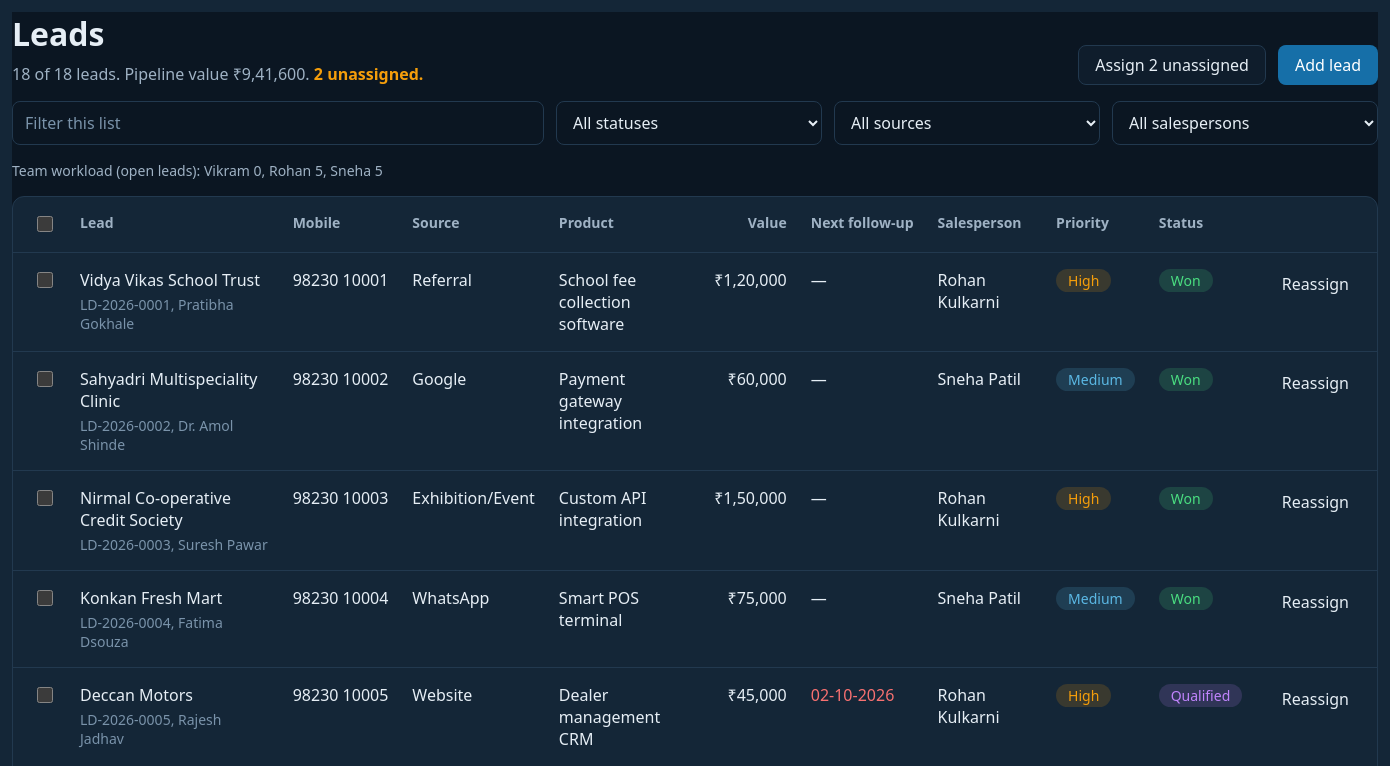
Test: LeadsPanel › adds a new lead to the list
Click the button "Add lead": (1328, 65) top-left (1278, 45), bottom-right (1378, 85)
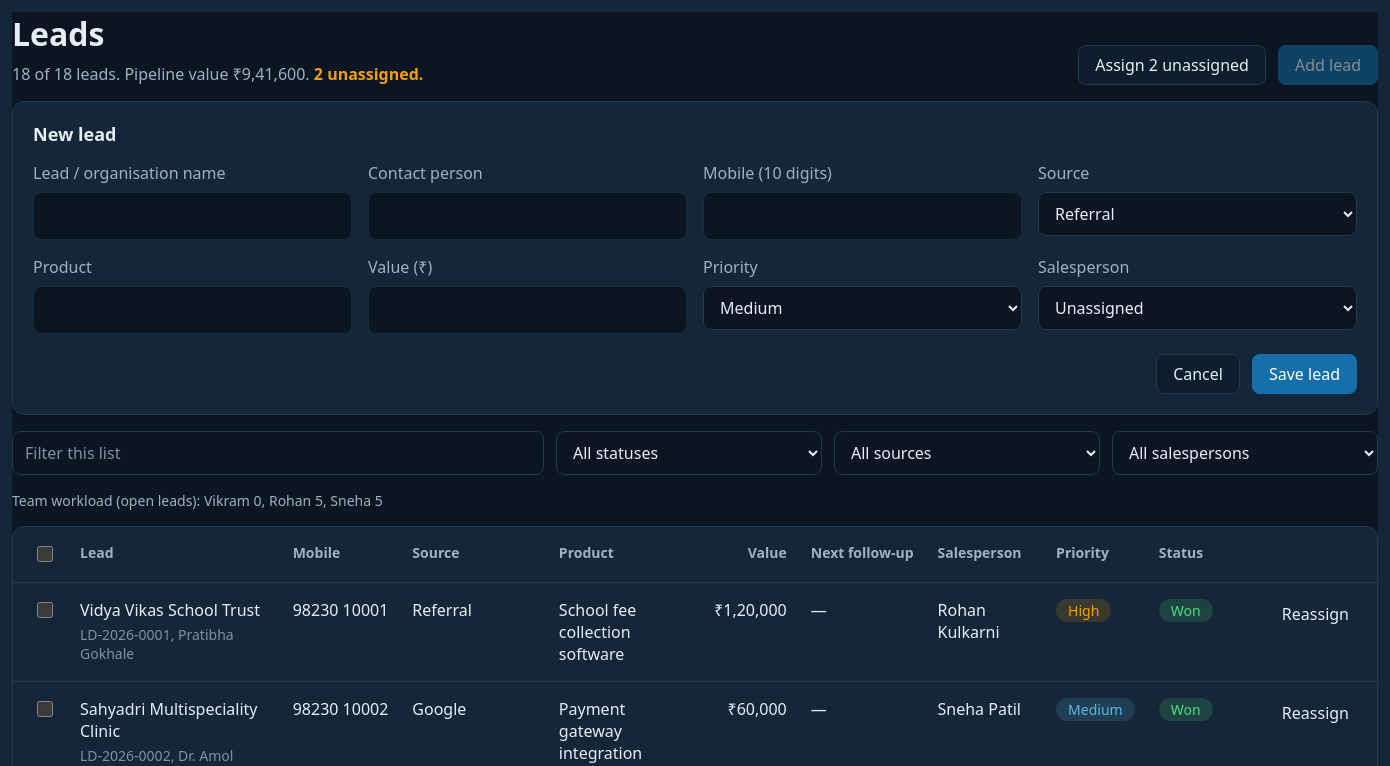
In the field labelled "Lead / organisation name": (192, 216) top-left (33, 192), bottom-right (352, 240), type "Acme Traders"
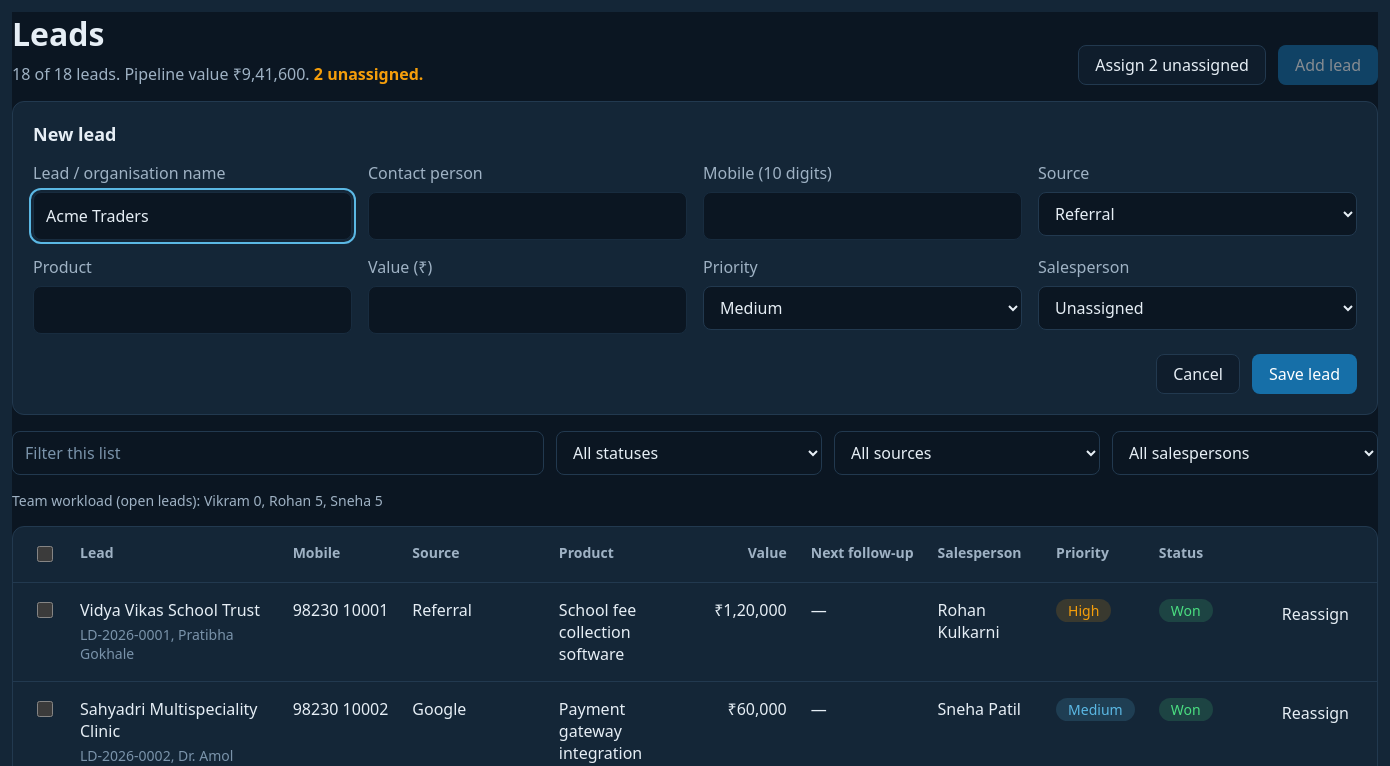
In the field labelled "Contact person": (528, 216) top-left (368, 192), bottom-right (687, 240), type "Ravi Kumar"
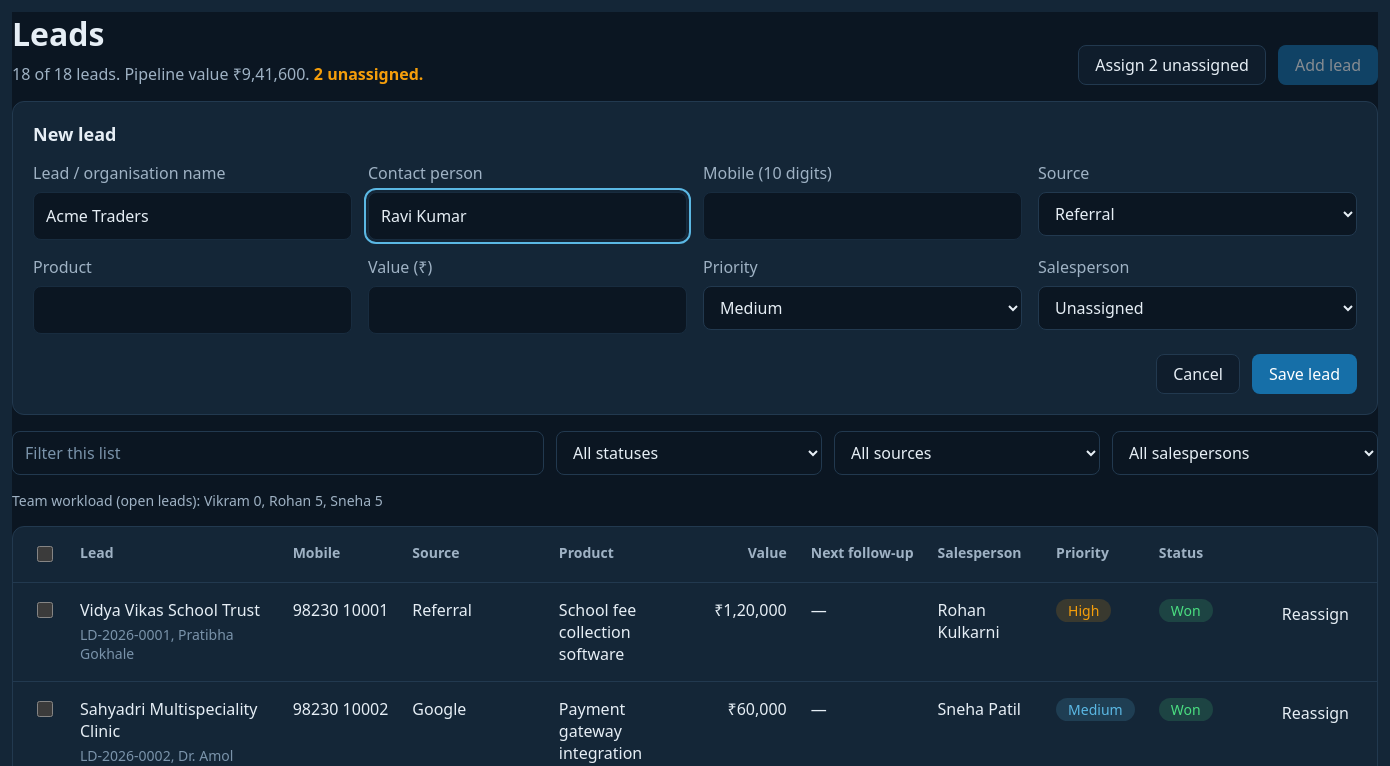
In the field labelled "Mobile (10 digits)": (862, 216) top-left (703, 192), bottom-right (1022, 240), type "9876543210"
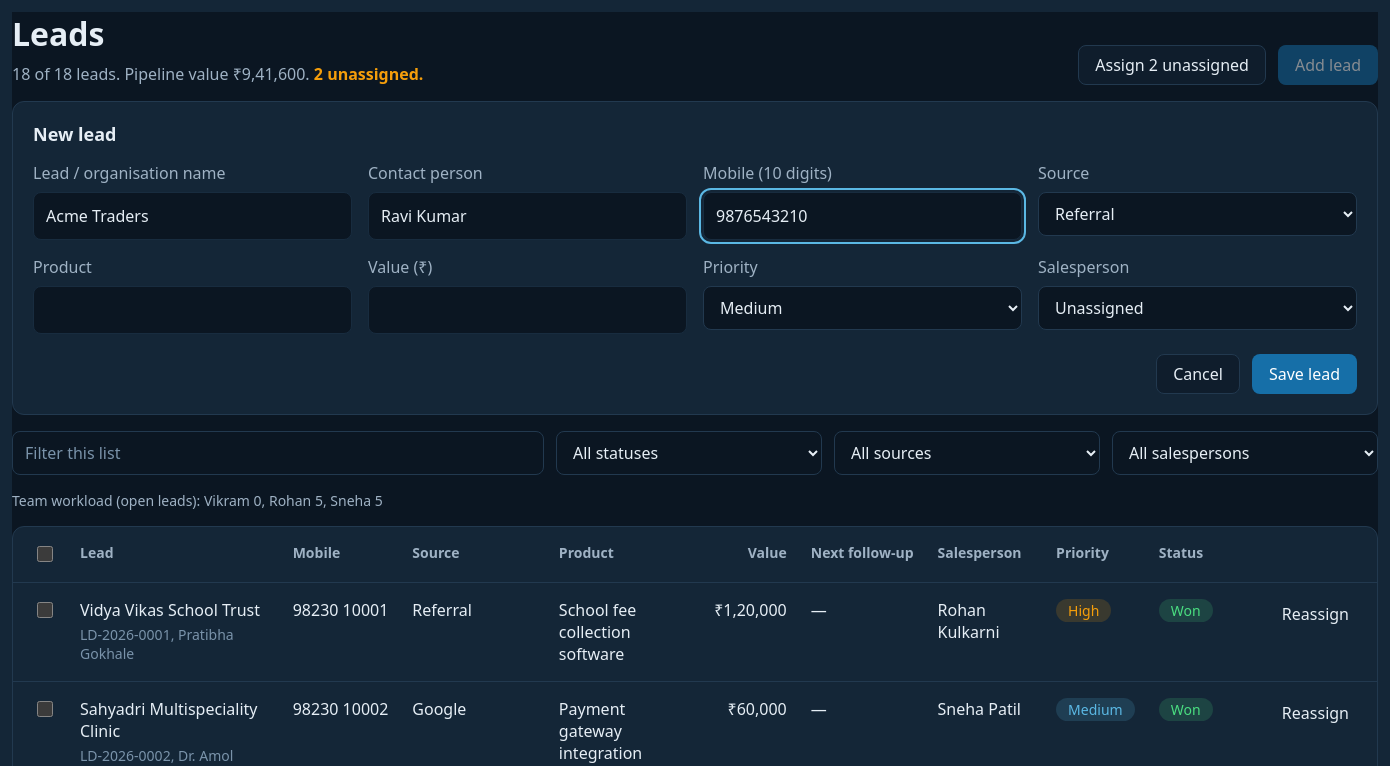
In the number field labelled "Value (₹)": (528, 310) top-left (368, 286), bottom-right (687, 334), type "25000"
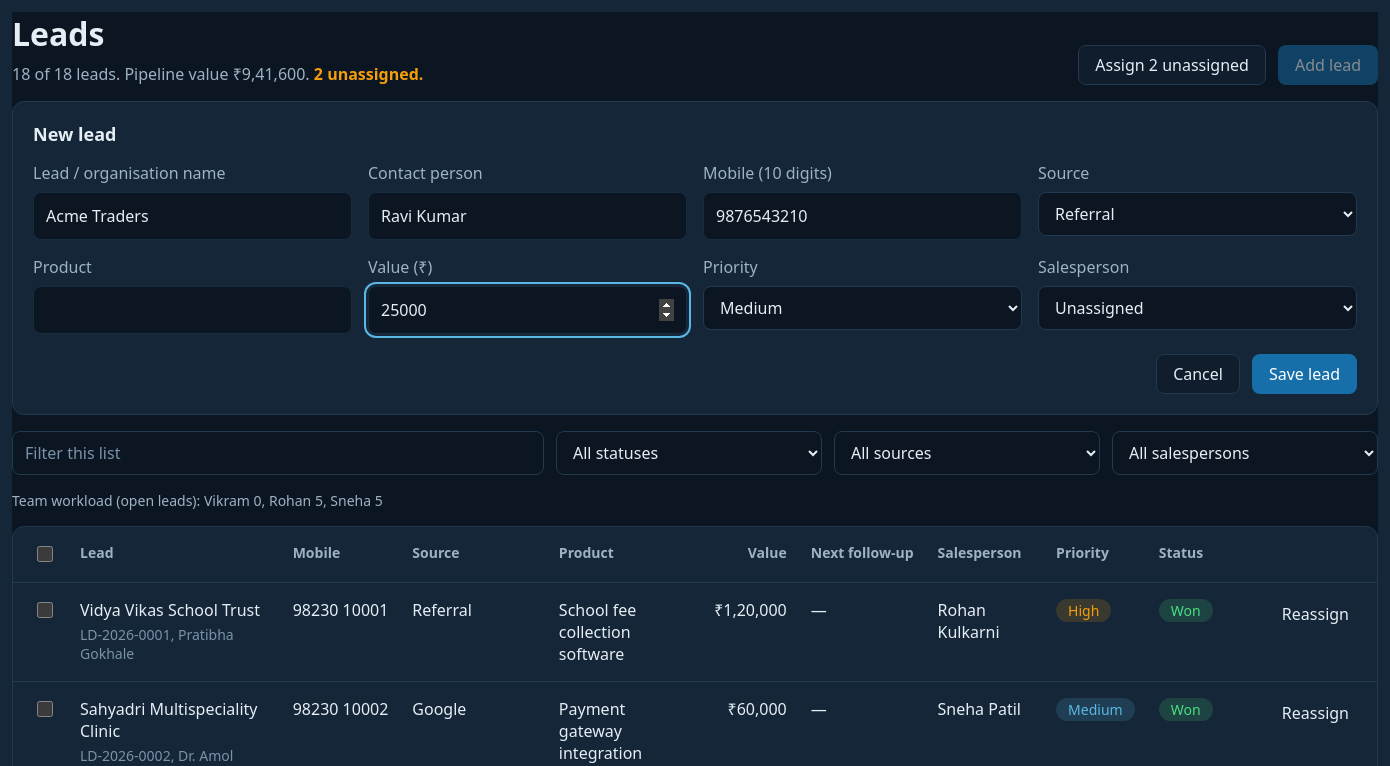
Click the button "Save lead": (1304, 374) top-left (1252, 354), bottom-right (1357, 394)
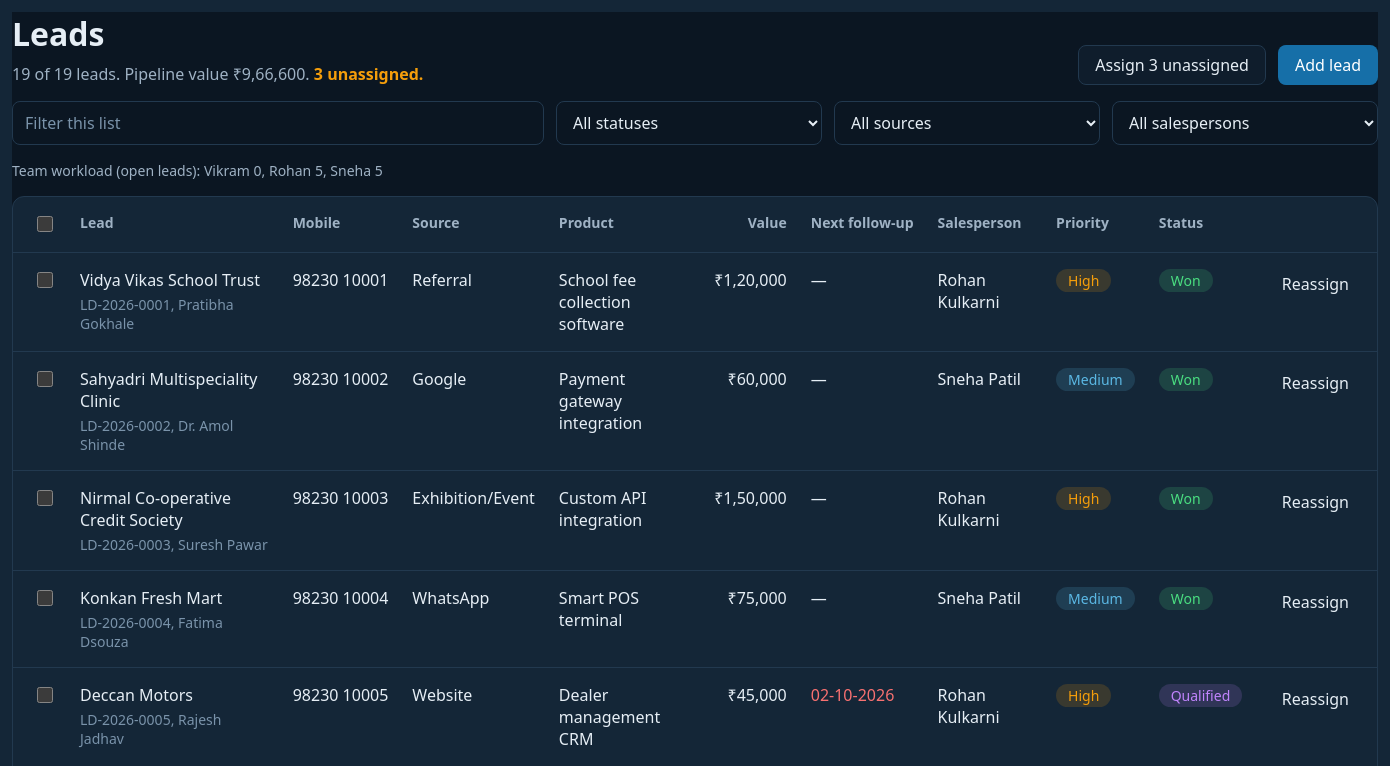
Expected: the heading "New lead" is gone
Expected: the text "3 unassigned." is shown, top-left (310, 63), bottom-right (423, 85)
